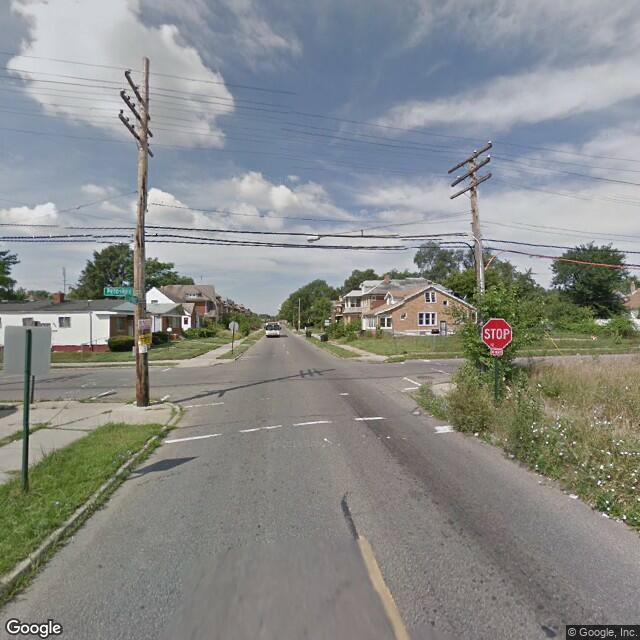litter: (568, 490, 580, 501), (506, 453, 517, 461), (601, 510, 609, 519), (474, 430, 480, 436), (414, 409, 419, 413)
